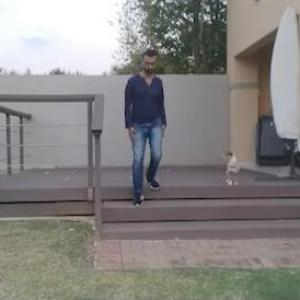follow: (123, 47, 162, 204)
